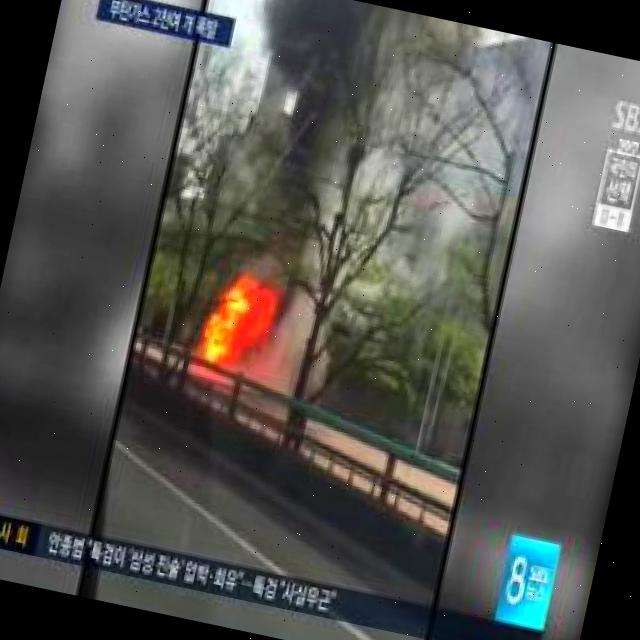fire: (190, 265, 286, 384)
